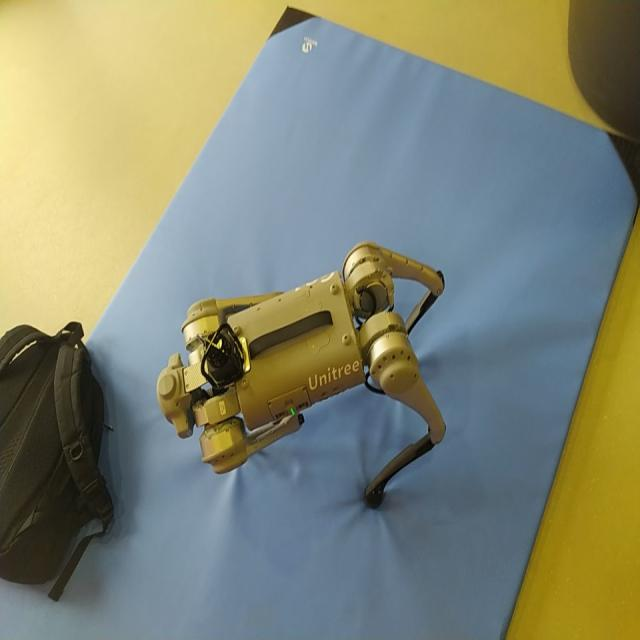unitree-go1-robot: (166, 245, 456, 519)
